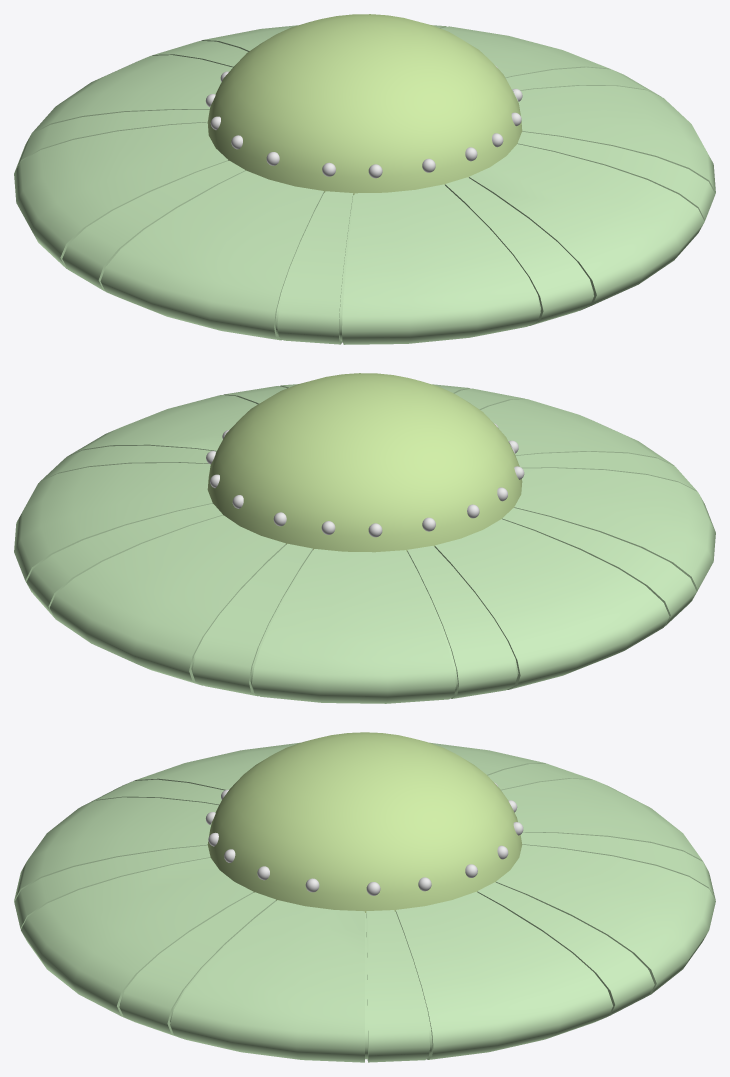
File: Ufo.fbx
3 views of the same model, one above another, from view 1: azimuth 30°, elevation 25°; view 2: azimuth 150°, elevation 25°; view 3: azimuth 270°, elevation 25° (orthographic).
Visible parts, largest first — view 1: Body, Top, LittlePart; view 2: Body, Top, LittlePart; view 3: Body, Top, LittlePart.
Boxes of the visible parts, <box> form: Body: <box>14,25,715,344</box>; Top: <box>207,14,522,194</box>; LittlePart: <box>205,65,522,178</box>; Body: <box>14,384,715,703</box>; Top: <box>207,373,522,552</box>; LittlePart: <box>206,423,524,537</box>; Body: <box>14,742,715,1062</box>; Top: <box>207,732,522,912</box>; LittlePart: <box>205,782,523,895</box>.
Bounding box in the file's own units: 200 × 73.69 × 200.
